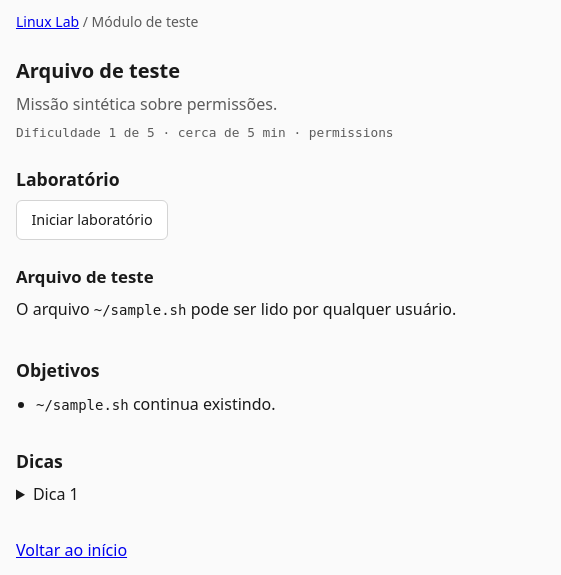
Test case: late responses of operations started by the previous user › does not store Ana's late new lab for Bia
The width and height of the screenshot is (561, 575).
Click the button "Iniciar laboratório": (92, 220) x1=16 y1=200 x2=168 y2=240
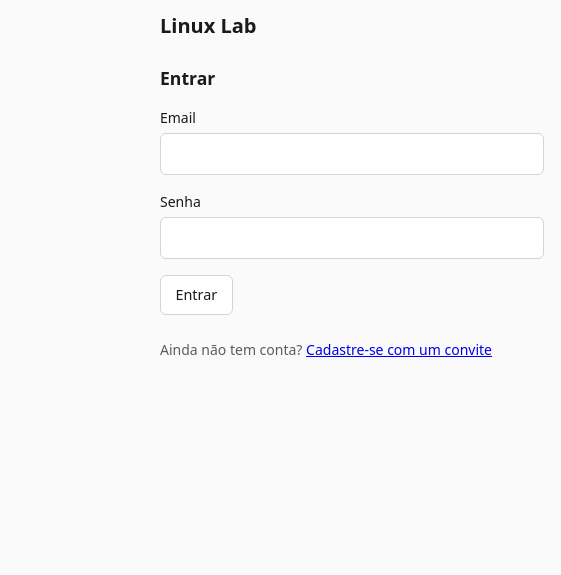
Expected: the heading "Entrar" is shown, x1=160 y1=66 x2=215 y2=90
In the field labelled "Email": (352, 154) x1=160 y1=133 x2=544 y2=175, type "bia@example.com"
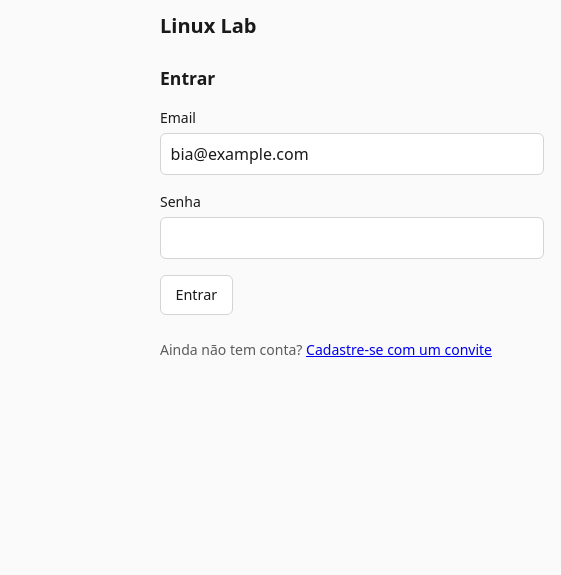
In the password field labelled "Senha": (352, 238) x1=160 y1=217 x2=544 y2=259, type "synthetic password 01"
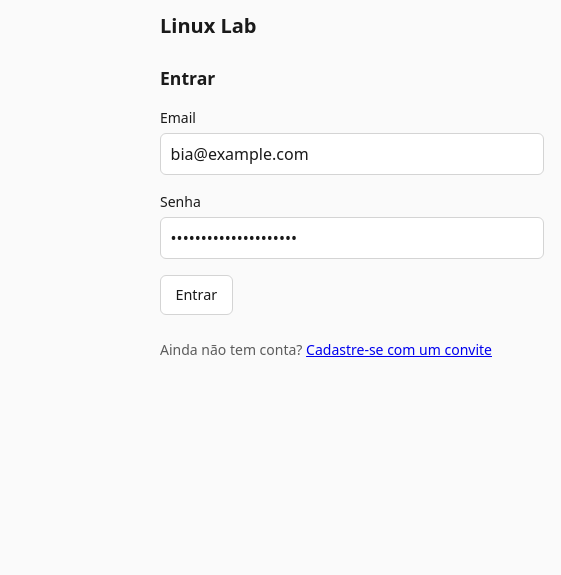
Click the button "Entrar": (196, 295) x1=160 y1=275 x2=232 y2=315
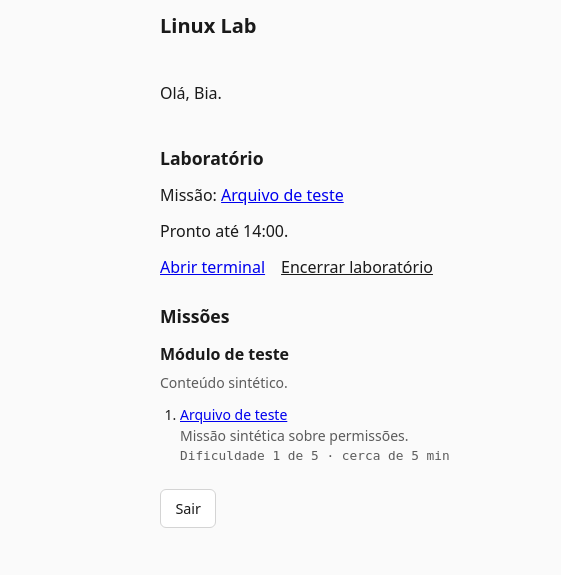
Expected: the text "Olá, Bia." is shown, x1=160 y1=82 x2=222 y2=104
Expected: the link "Arquivo de teste" below "Conteúdo sintético." is shown, x1=180 y1=405 x2=287 y2=424
Expected: the link "Abrir terminal" is shown, x1=160 y1=255 x2=265 y2=279
